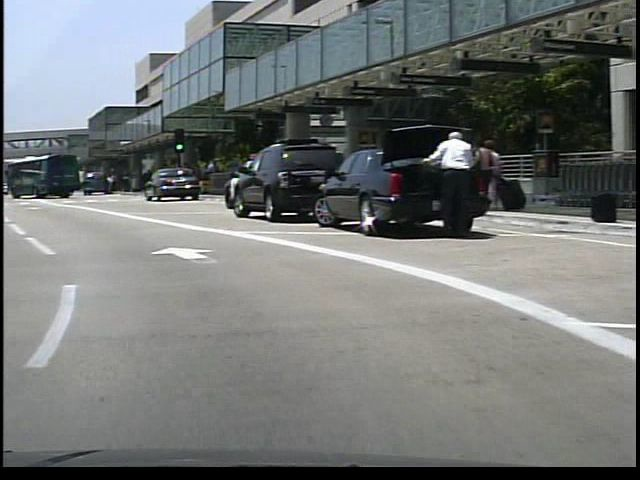person: (415, 130, 469, 237), (474, 135, 497, 216), (464, 137, 487, 215)
